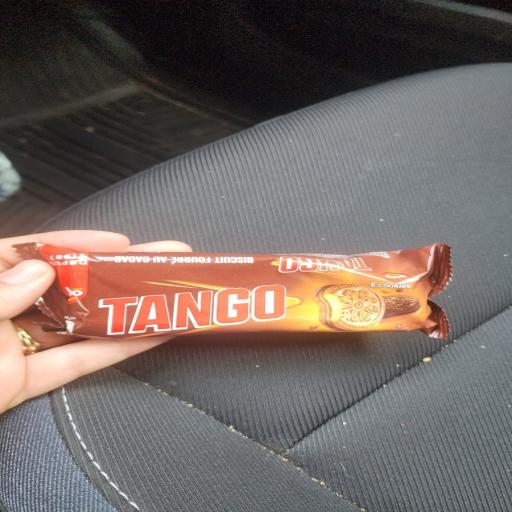tango: (6, 212, 495, 390)
